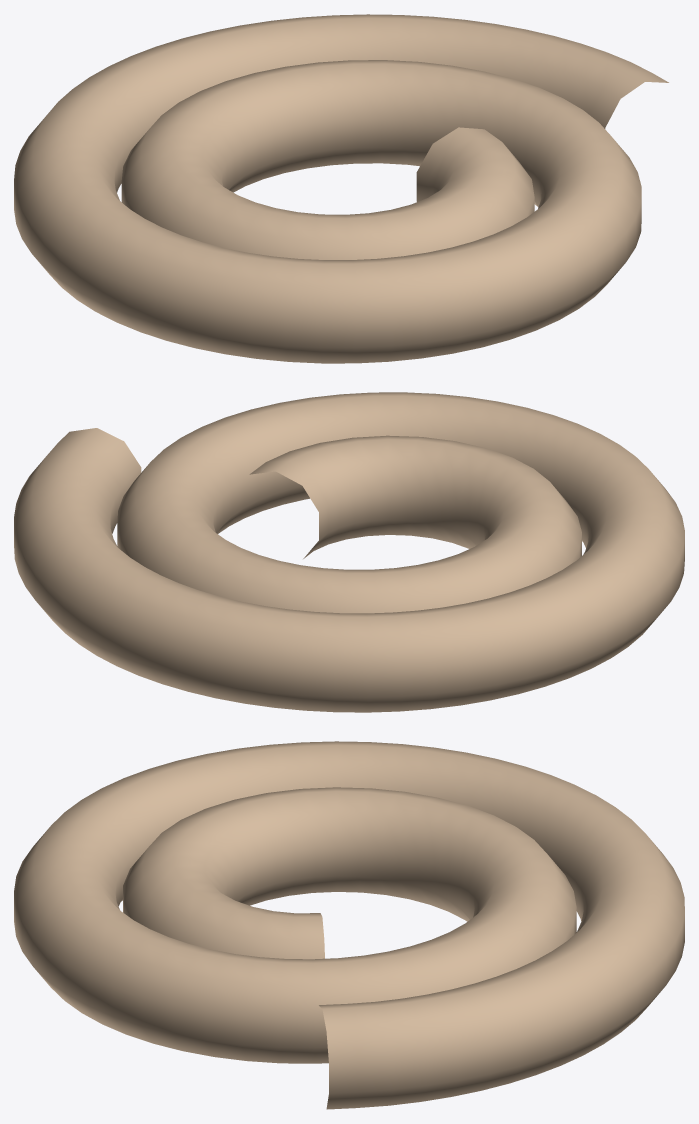
Rendered from clay-coil-v2.glb.
The picture shows the model from 3 angles, top to bottom: view 1: azimuth 30°, elevation 25°; view 2: azimuth 150°, elevation 25°; view 3: azimuth 270°, elevation 25°; orthographic projection. The views are drawn at different scales.
Visible parts, largest first — view 1: Continuous soft clay coil; view 2: Continuous soft clay coil; view 3: Continuous soft clay coil.
Boxes of the visible parts, x1,y1,x2,y2 form: Continuous soft clay coil: (14, 14, 668, 363); Continuous soft clay coil: (14, 392, 684, 712); Continuous soft clay coil: (14, 741, 684, 1109).
Bounding box in the file's own units: 0.2994 × 0.044 × 0.2772.
